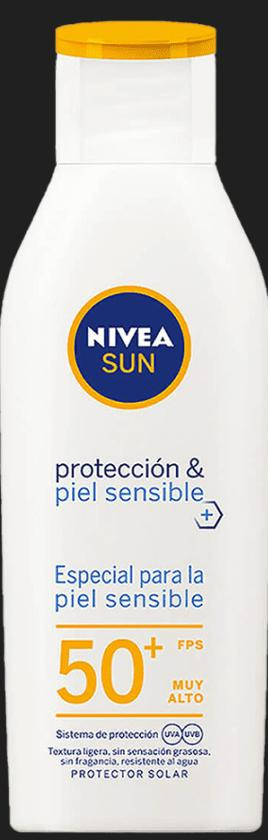brand: (64, 314, 195, 387)
extra_detail: (54, 631, 163, 711)
product_name: (49, 452, 211, 506)
